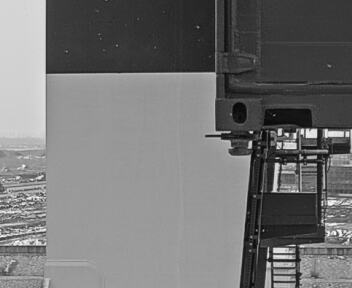twist_lock_1: (215, 124, 264, 163)
